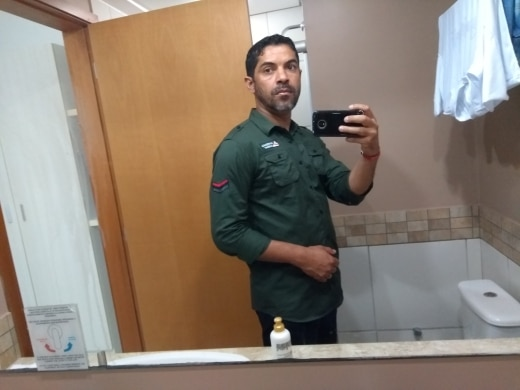shirts: (208, 111, 369, 318)
